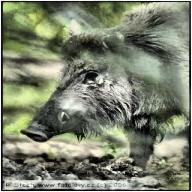boar: (20, 1, 190, 170)
